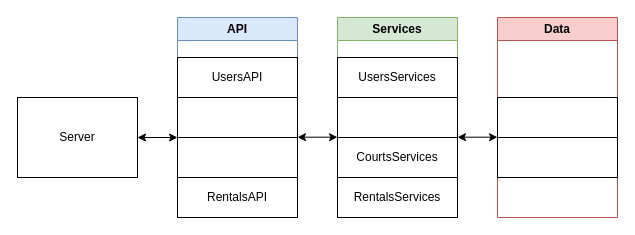
The diagram is 635 pixels wide and 235 high, and some of its shapes have lost their labels. The shapes that lost their labels are listed below. From the top down, each one's centre as x and y in pixels, then its label:
[237,117]: ClubsAPI
[397,117]: ClubsServices
[557,117]: Memory
[237,157]: CourtsAPI
[557,157]: Postgres
